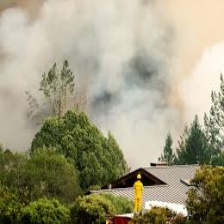smoke: (1, 1, 190, 154)
